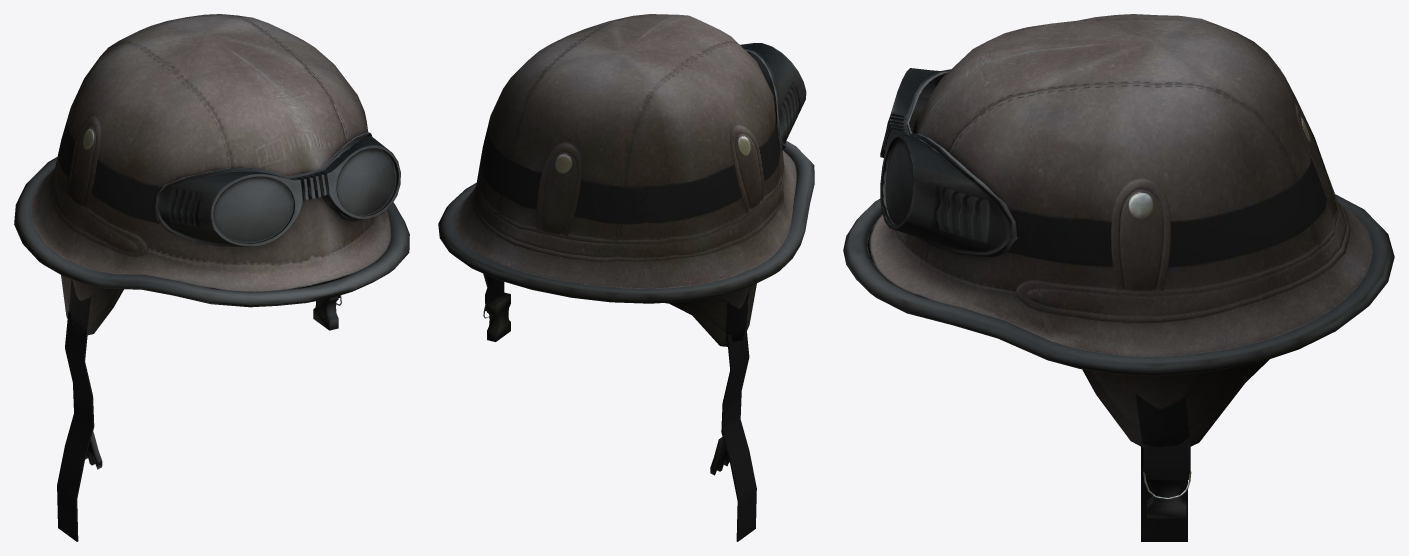
File: helmet.obj
3 views of the same model, side by side, from view 1: azimuth 30°, elevation 25°; view 2: azimuth 150°, elevation 25°; view 3: azimuth 270°, elevation 25° (orthographic). The views are drawn at different scales.
Visible parts, largest first — view 1: HerrMajor_Complete; view 2: HerrMajor_Complete; view 3: HerrMajor_Complete.
Part boxes in pixels (x1,y1,x2,y2): HerrMajor_Complete: (14, 14, 409, 541); HerrMajor_Complete: (438, 14, 814, 541); HerrMajor_Complete: (843, 14, 1394, 541).
Bounding box in the file's own units: 255 × 343 × 295.
Materials: 1 (1 with a texture image).
